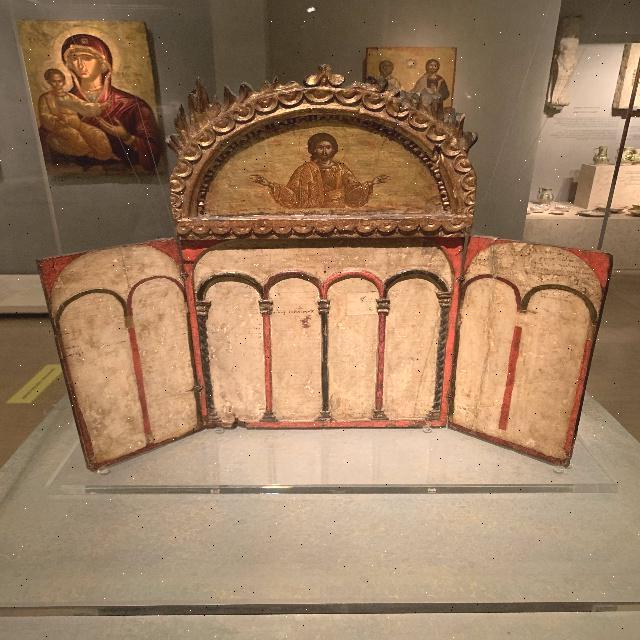christ_pantocrator: (248, 131, 387, 210)
